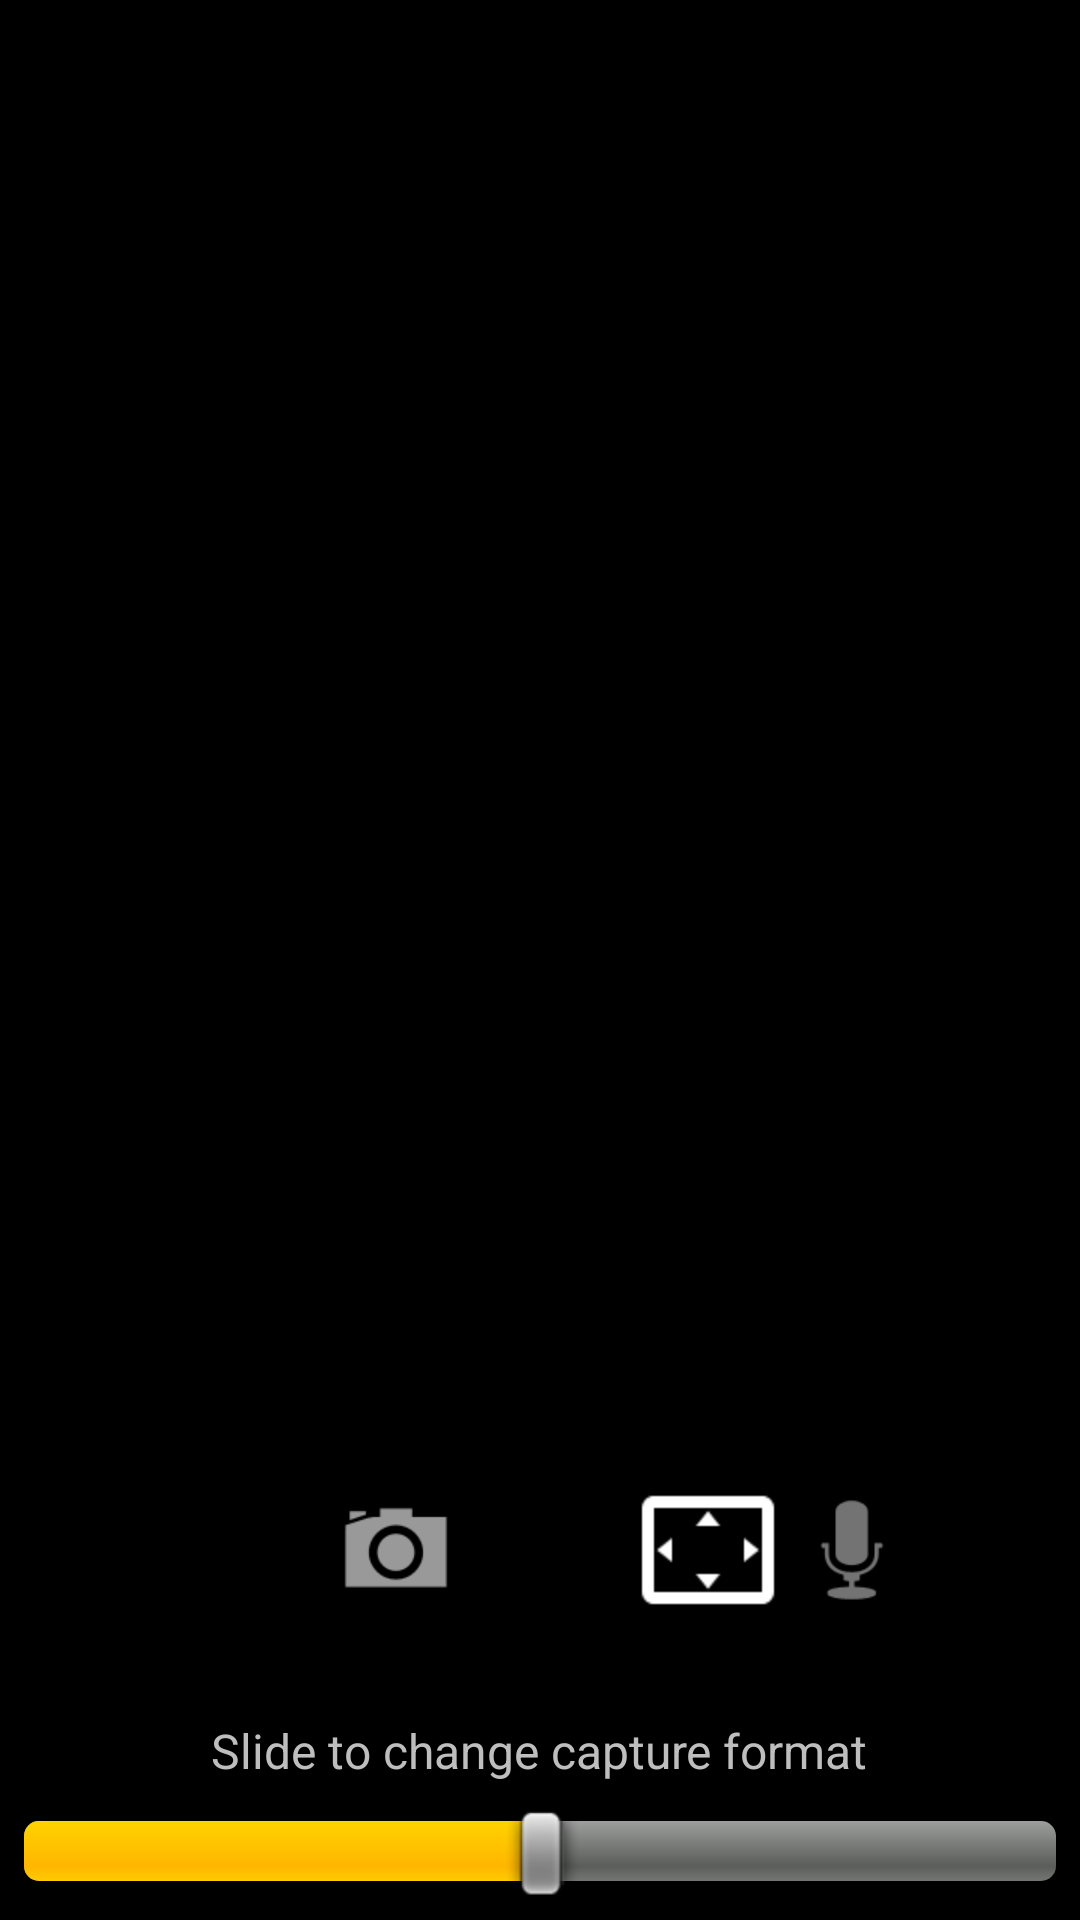

Icon click points for this 1080x1920 phone screenshot, format [x,y]:
Toggle microphone on/off: [852,1550]
